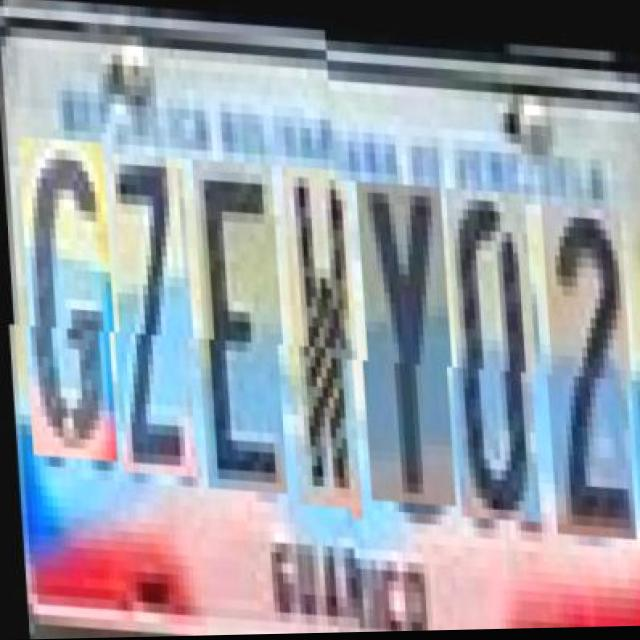0: (443, 180, 540, 517)
2: (539, 195, 635, 533)
e: (191, 164, 287, 502)
g: (16, 144, 117, 472)
w: (280, 169, 362, 516)
y: (354, 174, 455, 502)
z: (105, 160, 197, 486)
